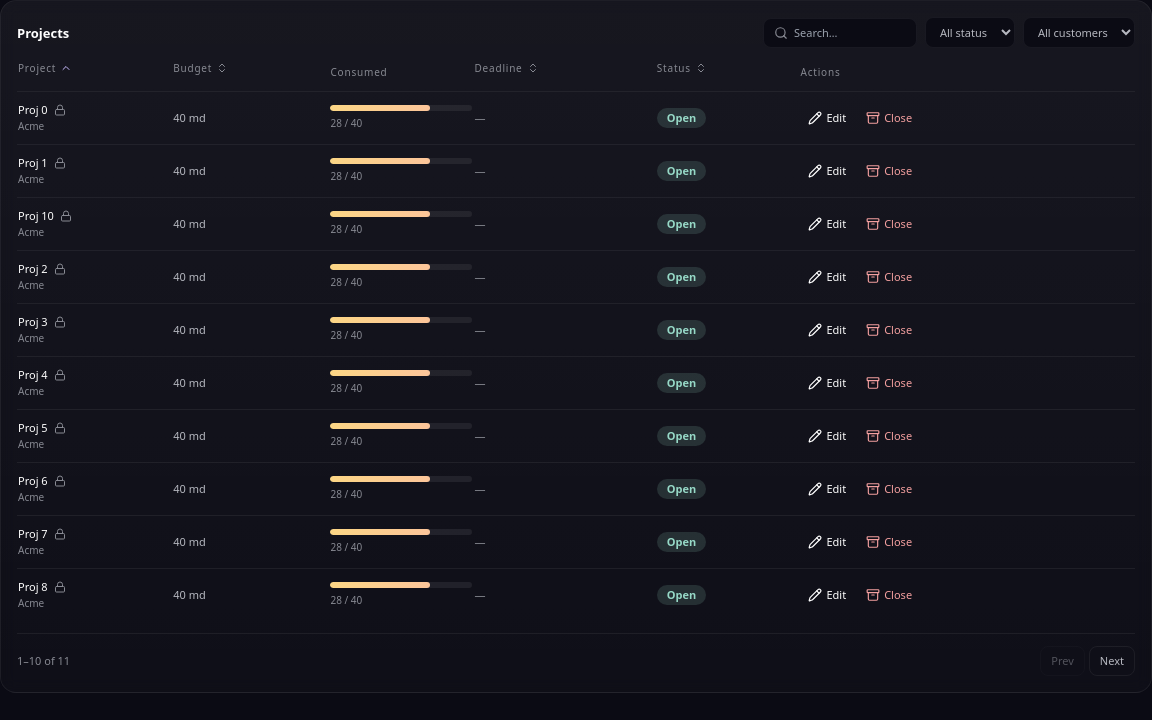
Scenario: ProjectsTable › Prev is disabled on page 1, Next disabled on last page
Expected: the button "Prev" is disabled, x1=1040 y1=646 x2=1085 y2=676
Click the button "Next". click: (1112, 661)
box: x1=1089 y1=646 x2=1135 y2=676
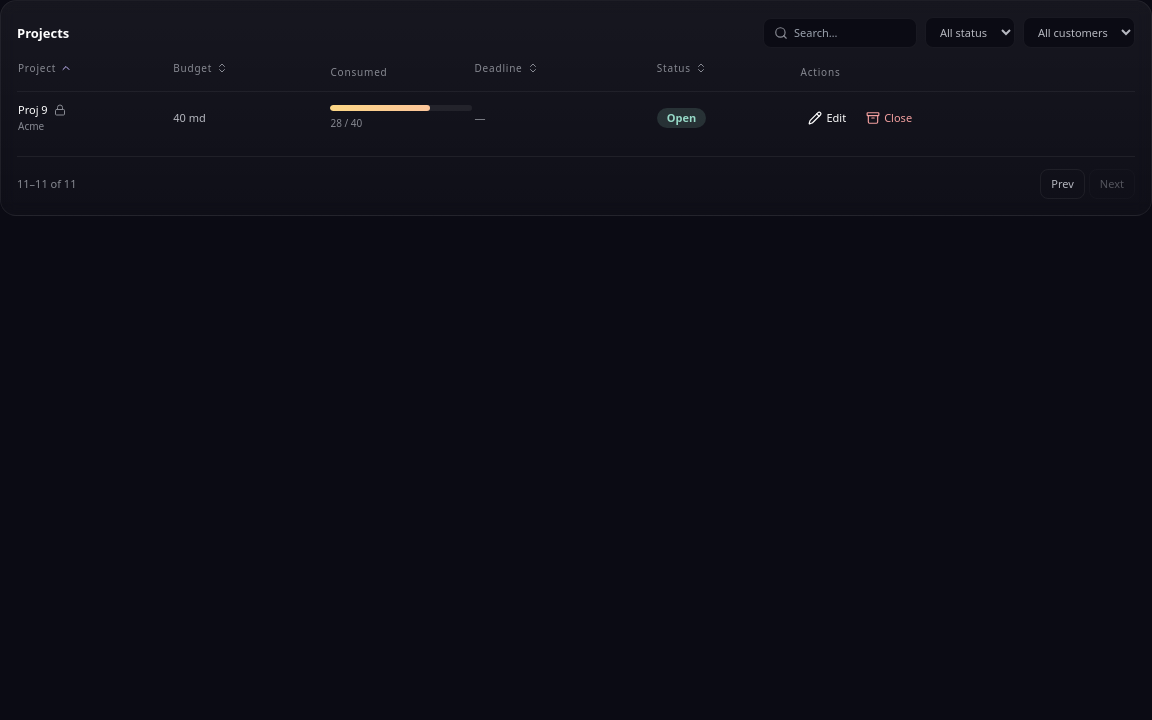
Result: the button "Next" is disabled at x1=1089 y1=169 x2=1135 y2=199
Result: the button "Prev" is enabled at x1=1040 y1=169 x2=1085 y2=199
